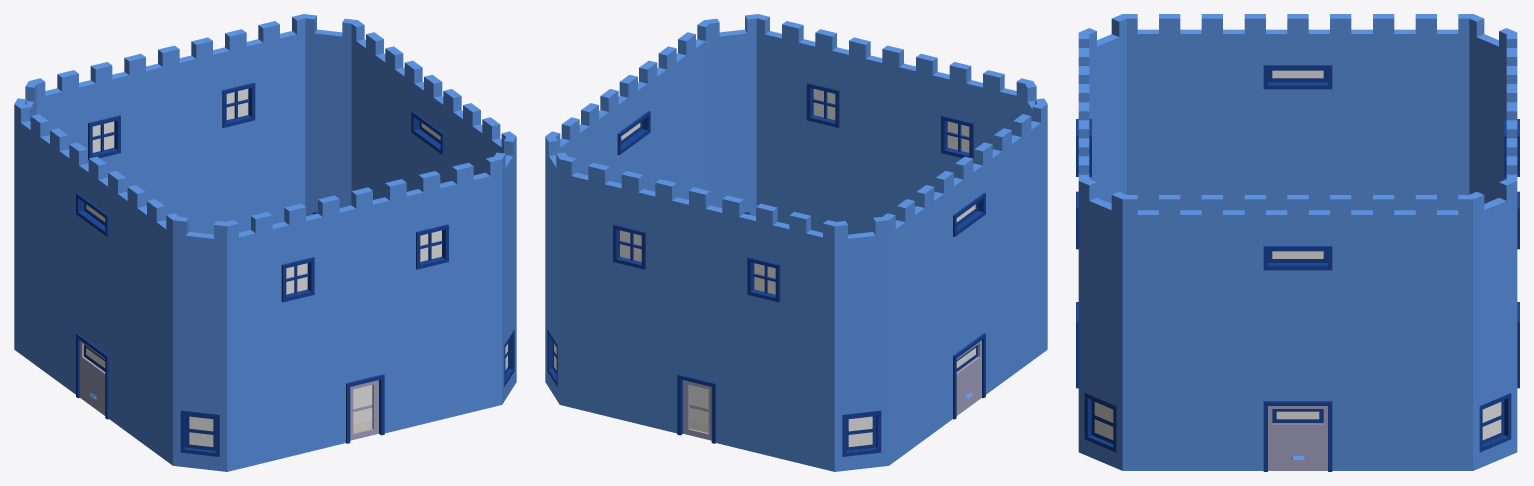
File: M1_Shelter.fbx
3 views of the same model, side by side, from view 1: azimuth 30°, elevation 25°; view 2: azimuth 150°, elevation 25°; view 3: azimuth 270°, elevation 25° (orthographic). The views are drawn at different scales.
Visible parts, largest first — view 1: mergedBlocks; view 2: mergedBlocks; view 3: mergedBlocks.
Boxes of the visible parts, left/top/right/bottom form: mergedBlocks: left=14, top=14, right=516, bottom=471; mergedBlocks: left=545, top=14, right=1047, bottom=471; mergedBlocks: left=1076, top=14, right=1519, bottom=471.
Size of the model in its own units: 51.85 by 35 by 51.85.
